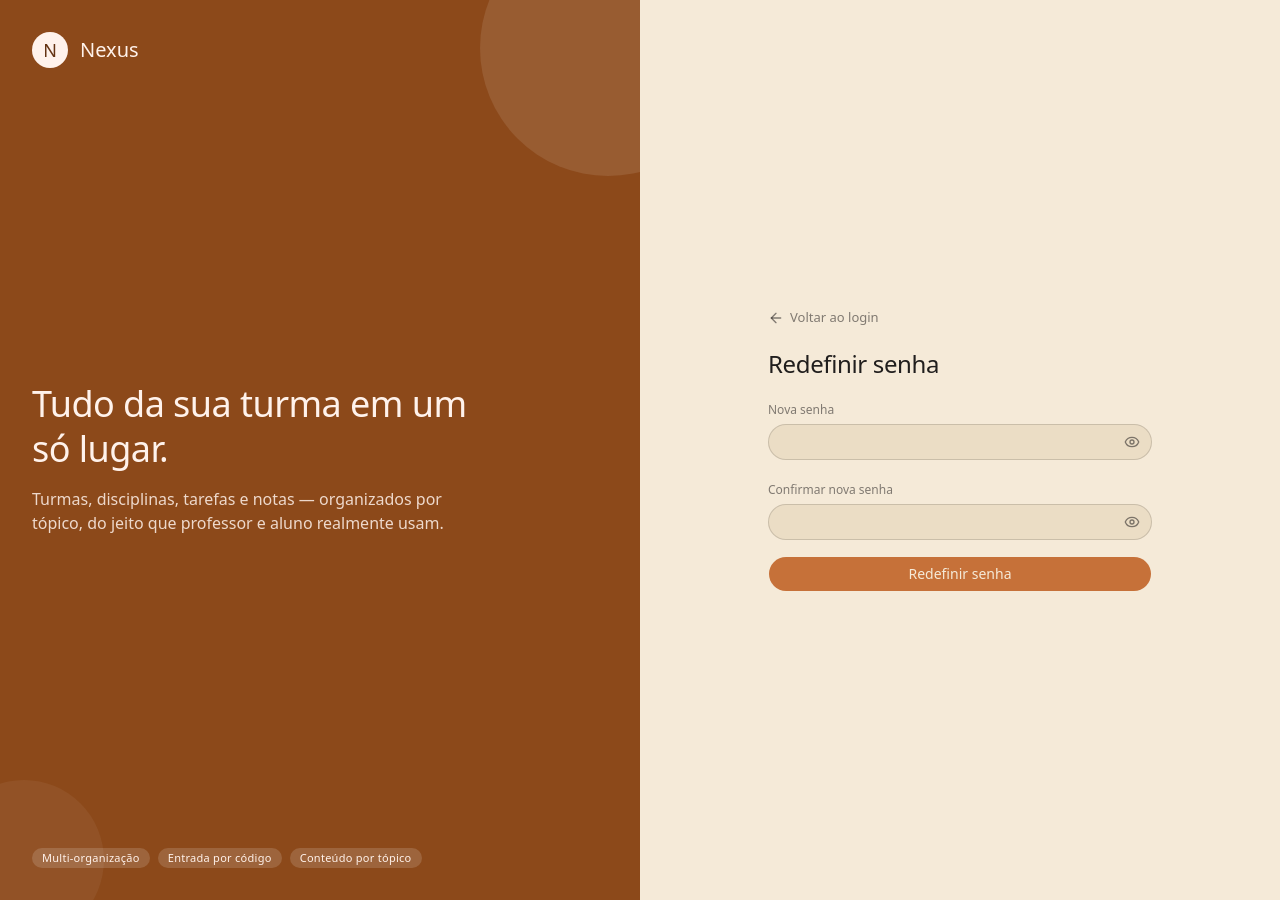
ResetPasswordPage › shows the block instead of the token message when the IP is rate limited
Type "Senha@123" into the password field labelled "Nova senha" at (960,442), box x1=768 y1=424 x2=1152 y2=460
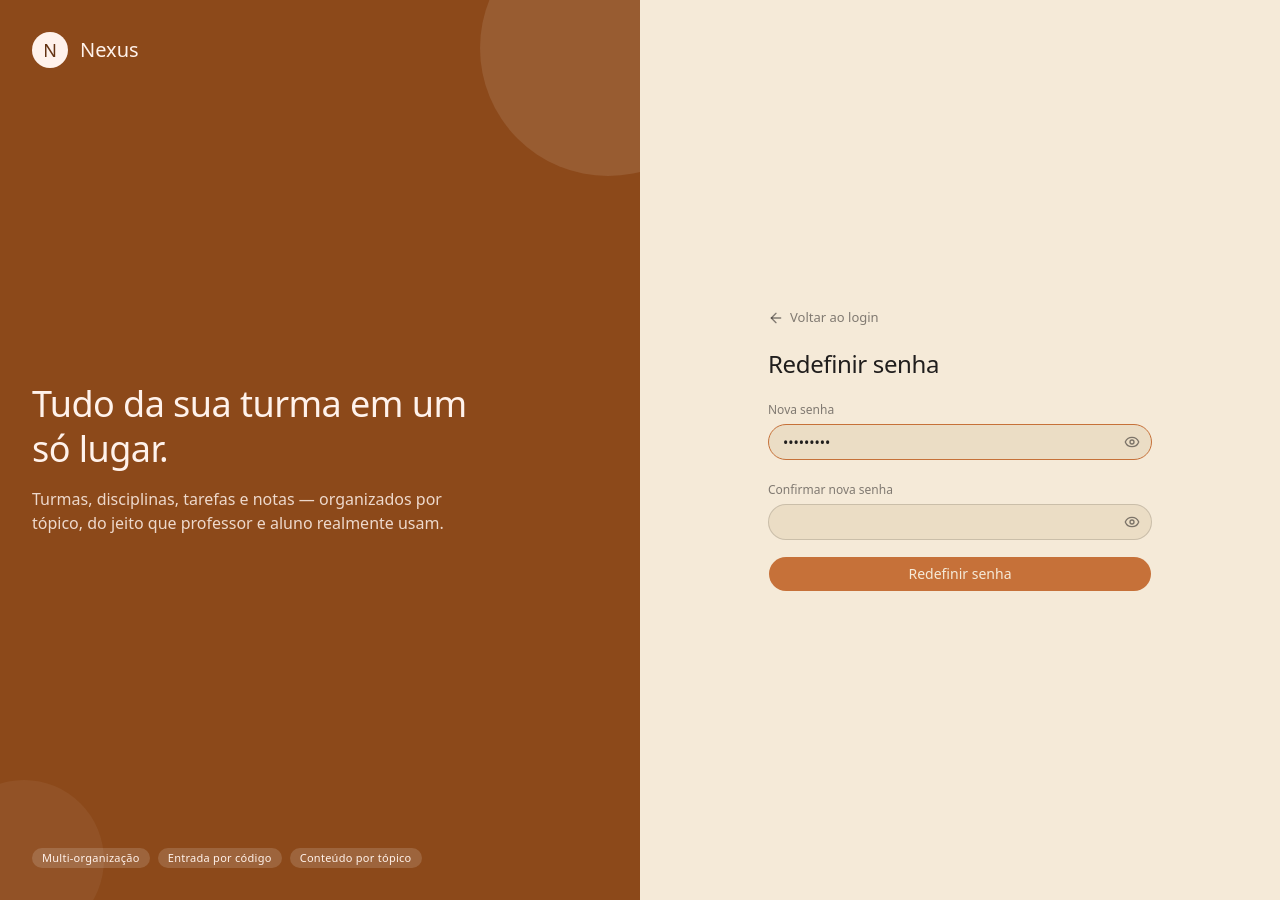
Type "Senha@123" into the password field labelled "Confirmar nova senha" at (960,522), box x1=768 y1=504 x2=1152 y2=540
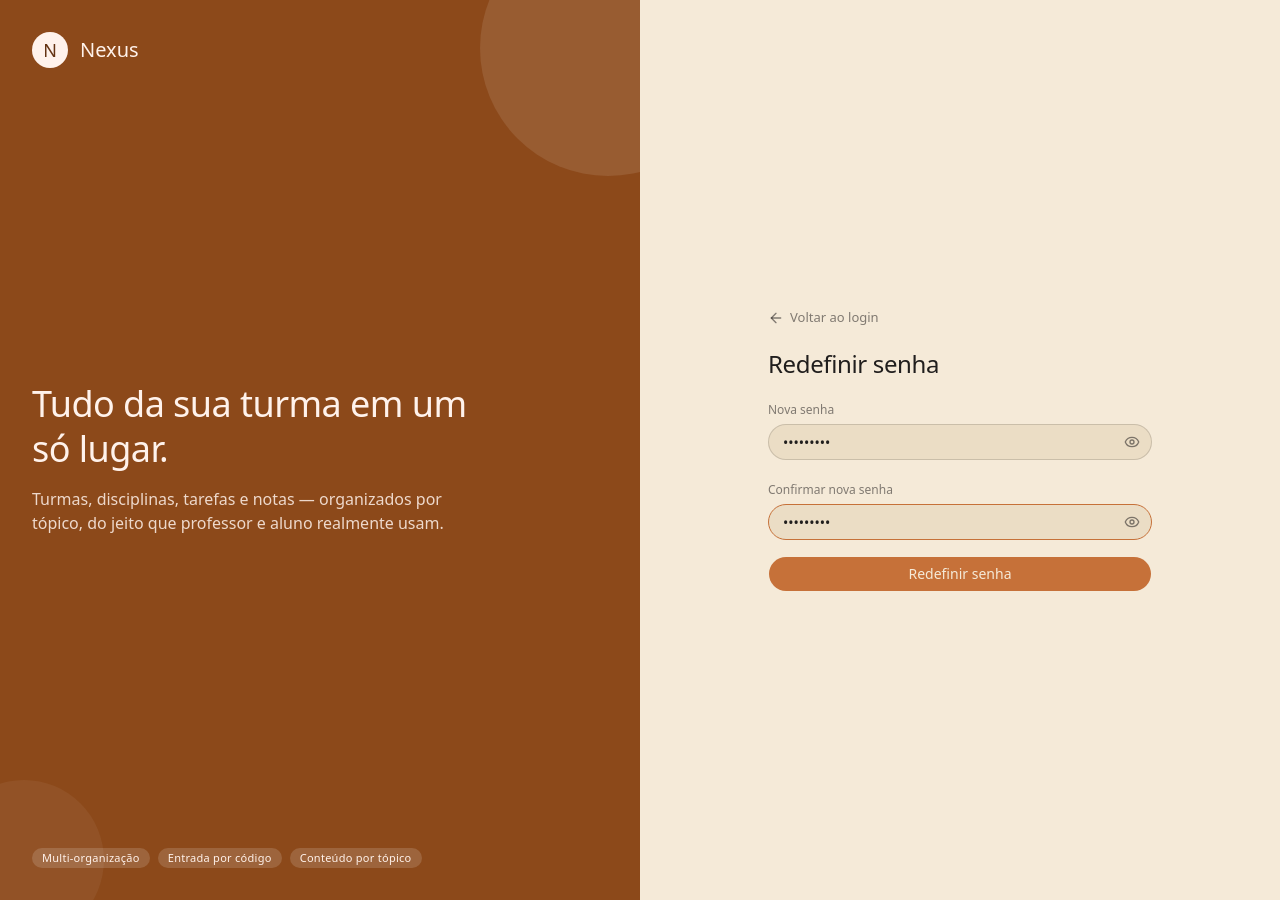
Click the button "Redefinir senha" at (960,574), box x1=768 y1=556 x2=1152 y2=592
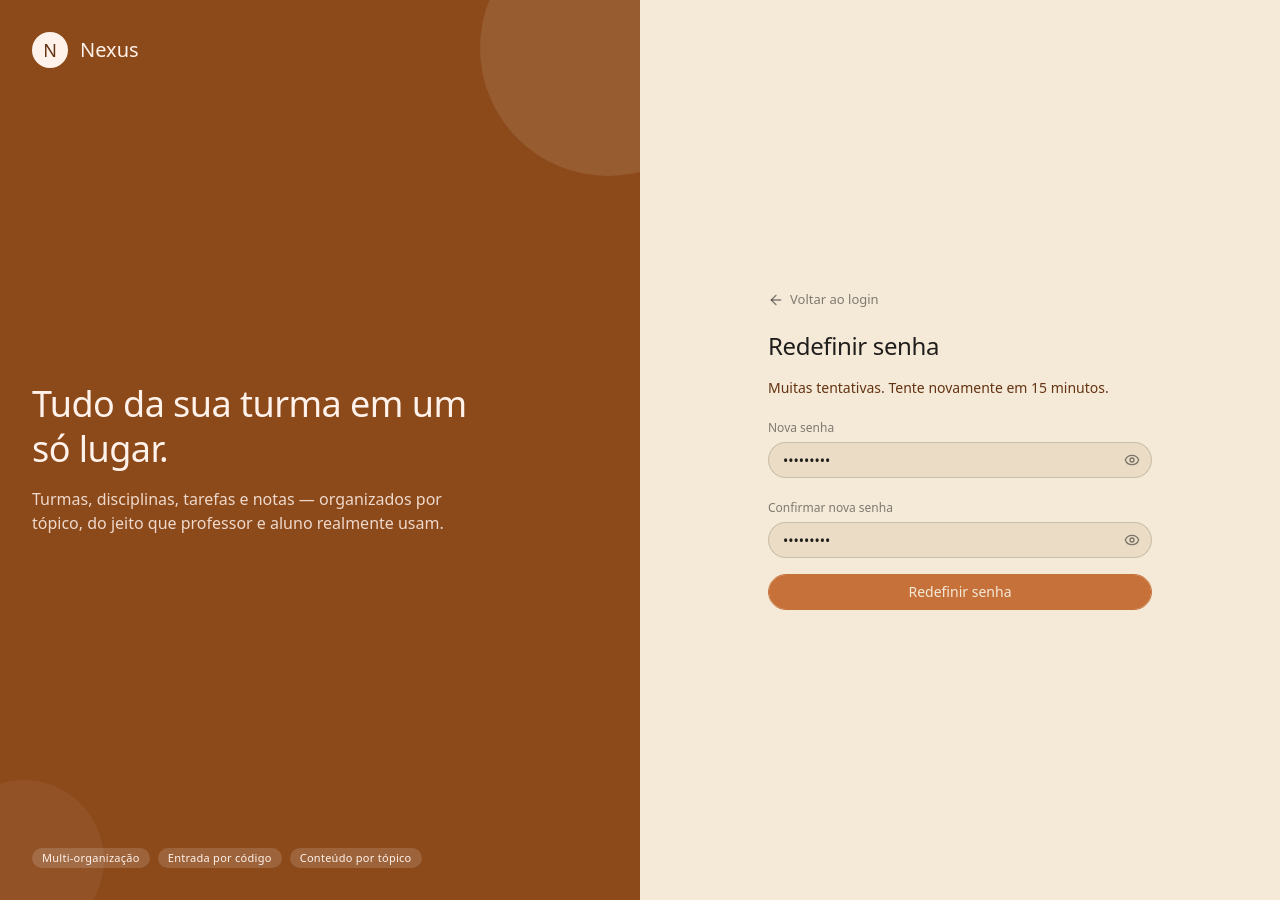
Now the message reads "Muitas tentativas. Tente novamente em 15 minutos.", box x1=768 y1=378 x2=1109 y2=397
